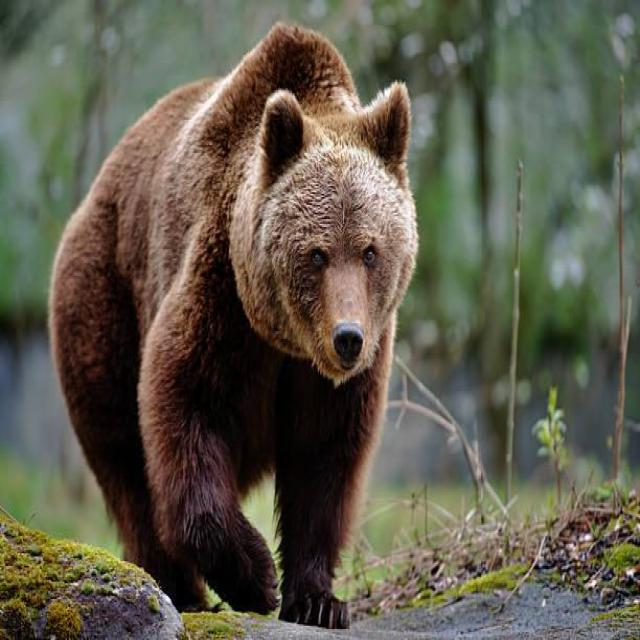Bear: (47, 20, 419, 632)
